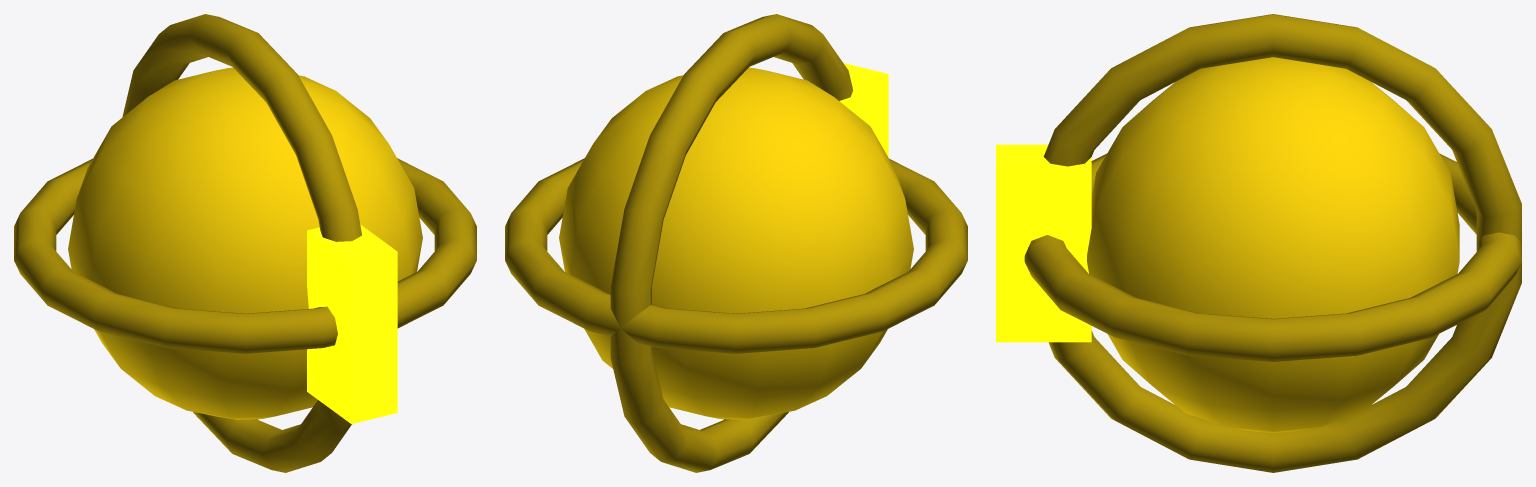
File: ojo_dragon.glb
3 renders of one model, left to right at view 1: azimuth 30°, elevation 25°; view 2: azimuth 150°, elevation 25°; view 3: azimuth 270°, elevation 25°, orthographic. The views are drawn at different scales.
Visible parts, largest first — view 1: Body, Detail, Glow; view 2: Body, Detail, Glow; view 3: Body, Detail, Glow.
Boxes of the visible parts, <box> form: Body: <box>68,67,422,419</box>; Detail: <box>14,14,476,472</box>; Glow: <box>307,224,397,423</box>; Body: <box>559,67,913,419</box>; Detail: <box>505,14,967,472</box>; Glow: <box>839,63,888,157</box>; Body: <box>1087,57,1459,433</box>; Detail: <box>1024,14,1521,472</box>; Glow: <box>996,144,1091,342</box>.
Size of the model in its own units: 0.264 by 0.264 by 0.275.
